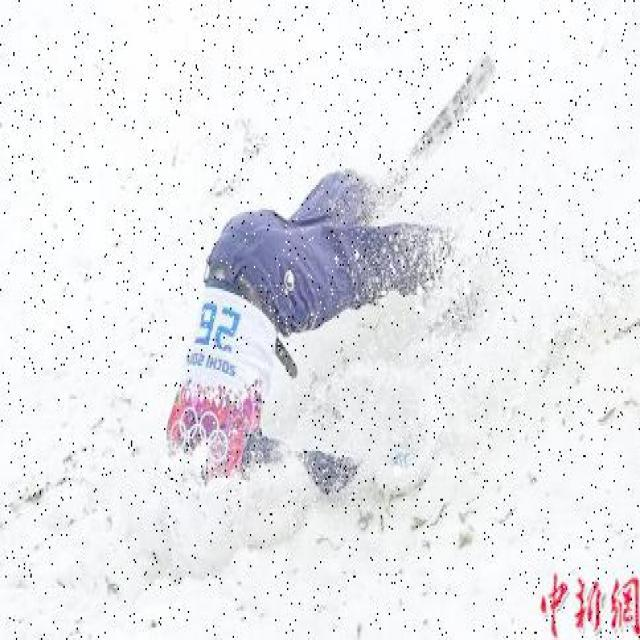fall: (156, 154, 463, 530)
